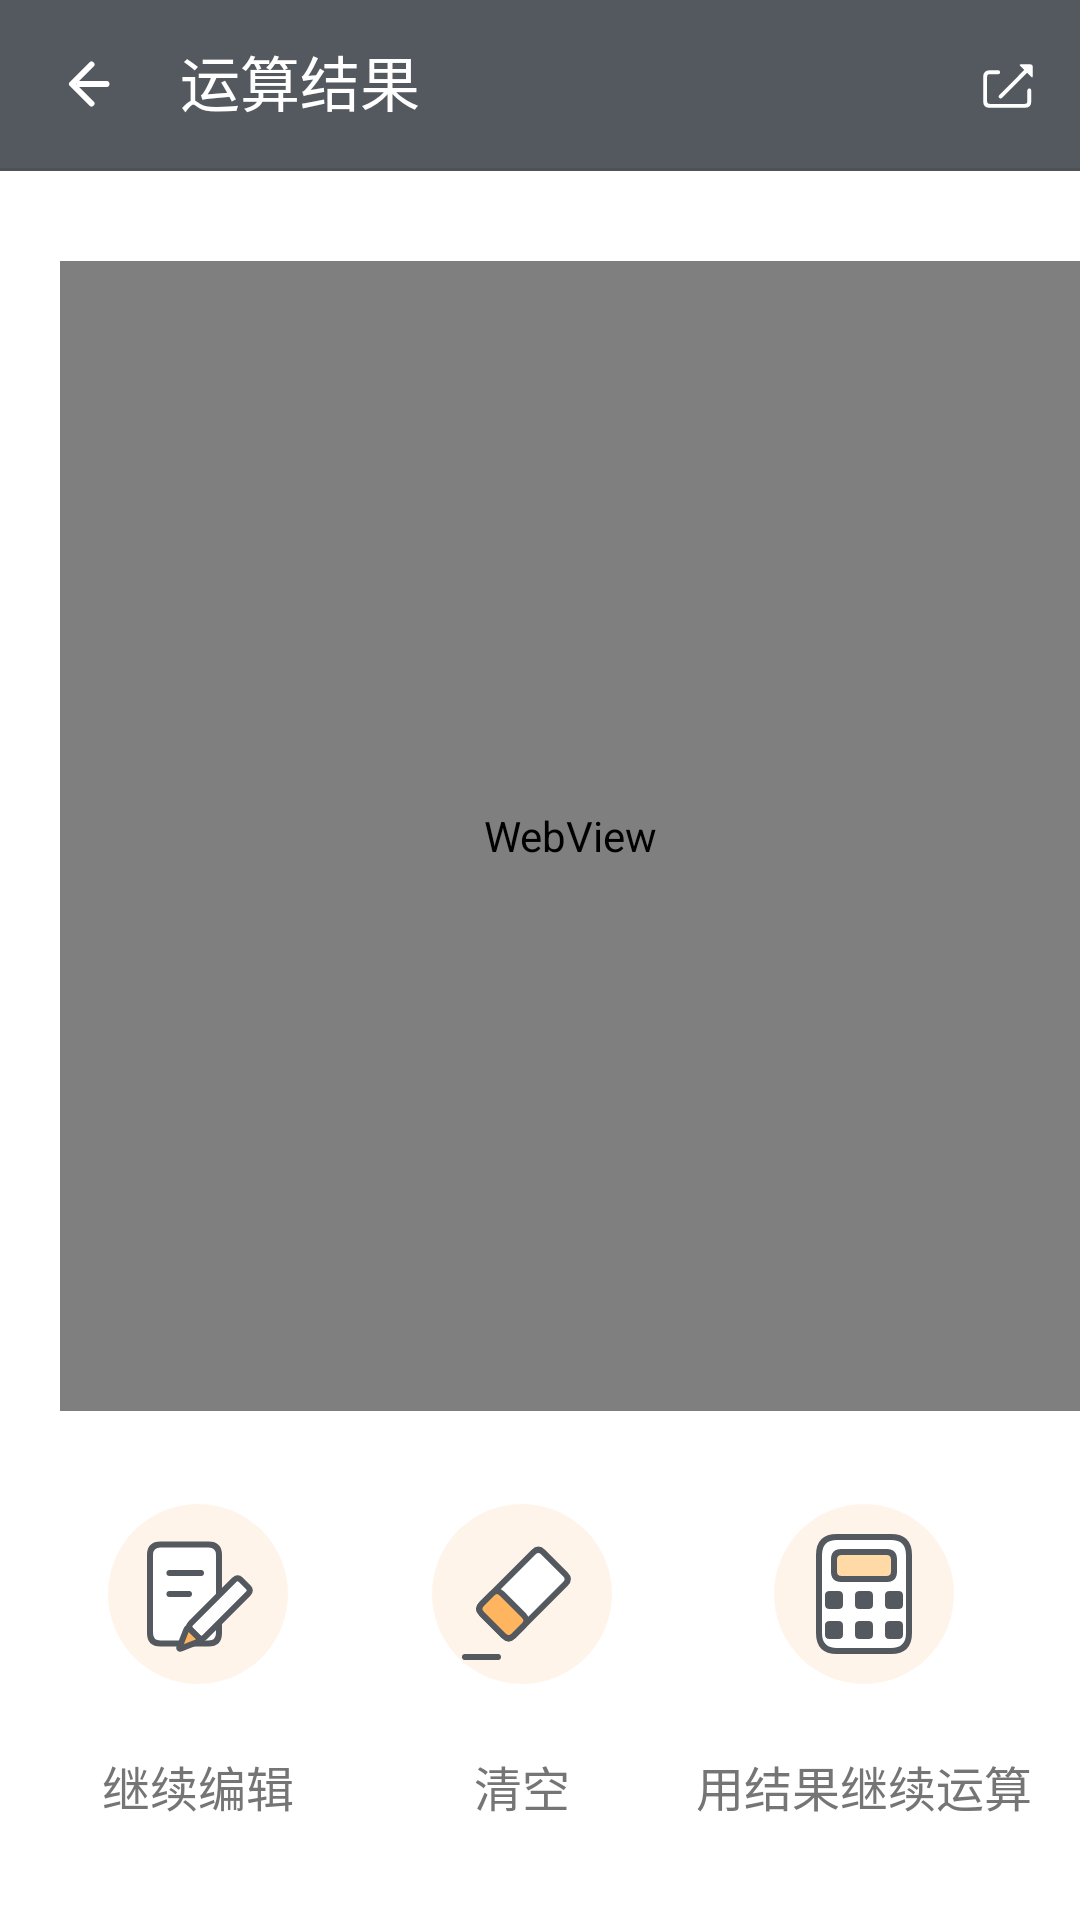

Where icons sit on this 1080 × 1920 app screen, as [left=x1, top=y1, right=x2, bottom=y2]:
分享: [left=983, top=64, right=1033, bottom=108]
返回: [left=69, top=61, right=110, bottom=107]
